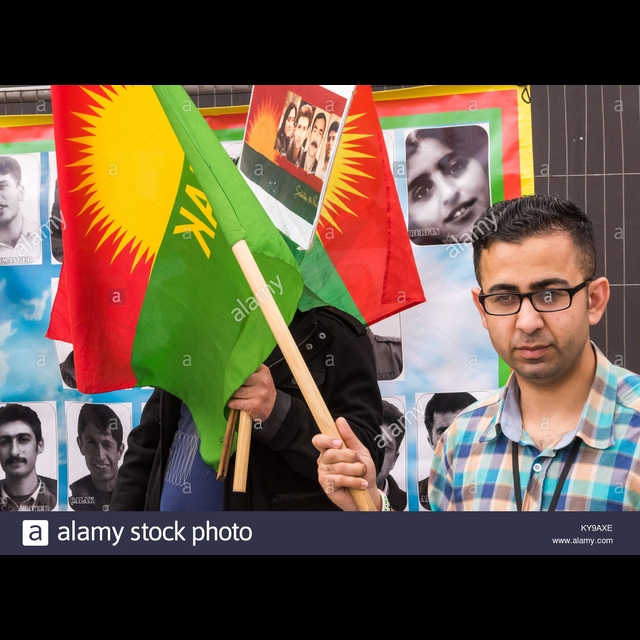PJAK: (76, 86, 229, 278)
